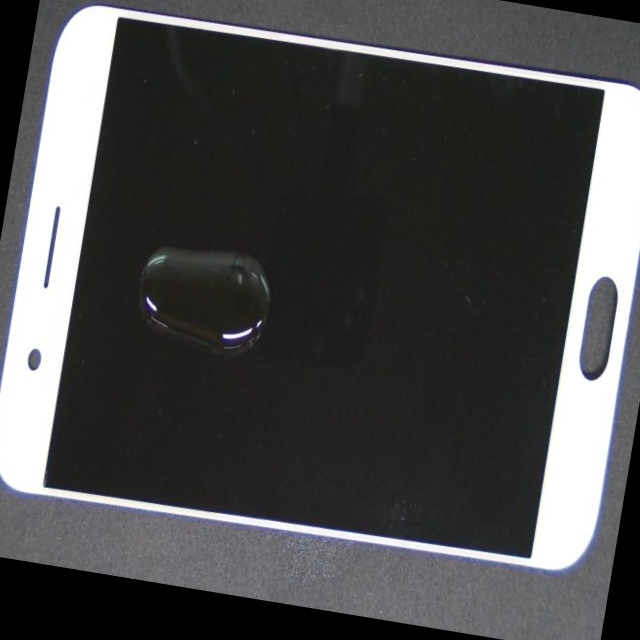oil: (119, 92, 315, 423)
